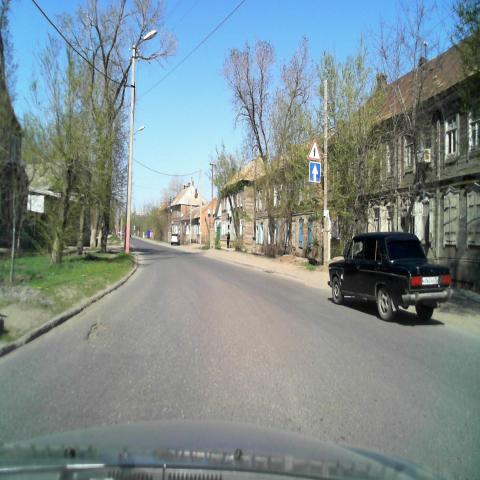2_3_3: (308, 139, 320, 160)
5_5: (309, 161, 321, 183)
